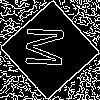M: (25, 25, 73, 70)
